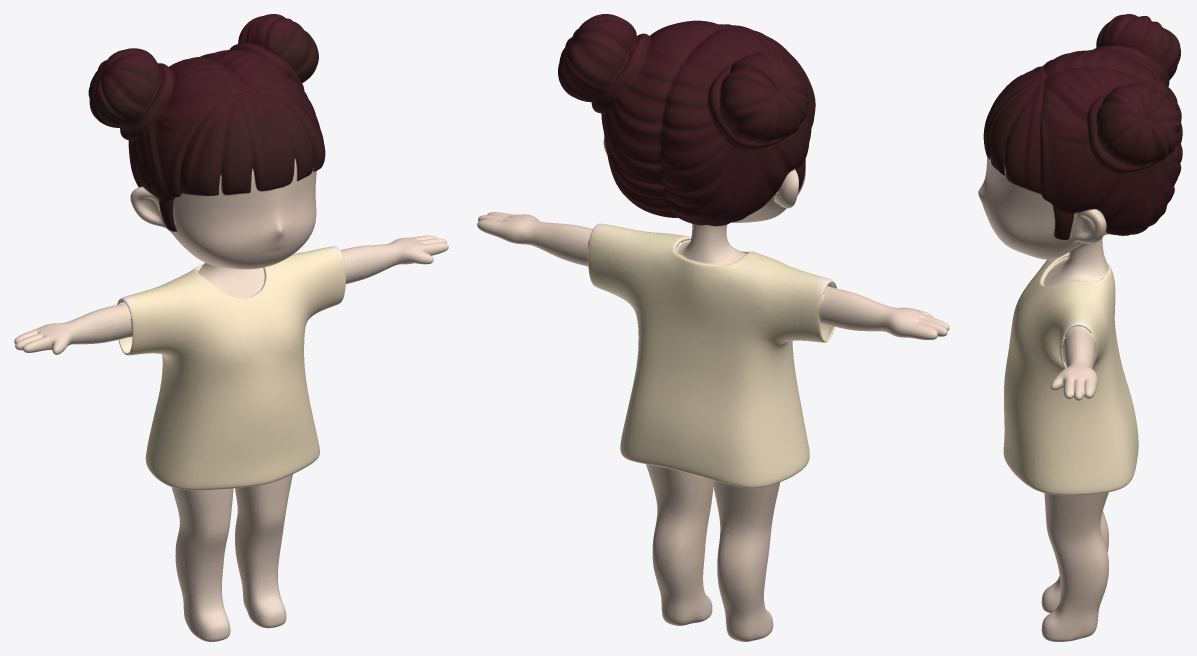
File: baked_hair_spacebuns.glb
3 views of the same model, side by side, from view 1: azimuth 30°, elevation 25°; view 2: azimuth 150°, elevation 25°; view 3: azimuth 270°, elevation 25° (orthographic). The views are drawn at different scales.
Size of the model in its own units: 1.51 by 1.9 by 0.6161.
1 material, 1 textured.
